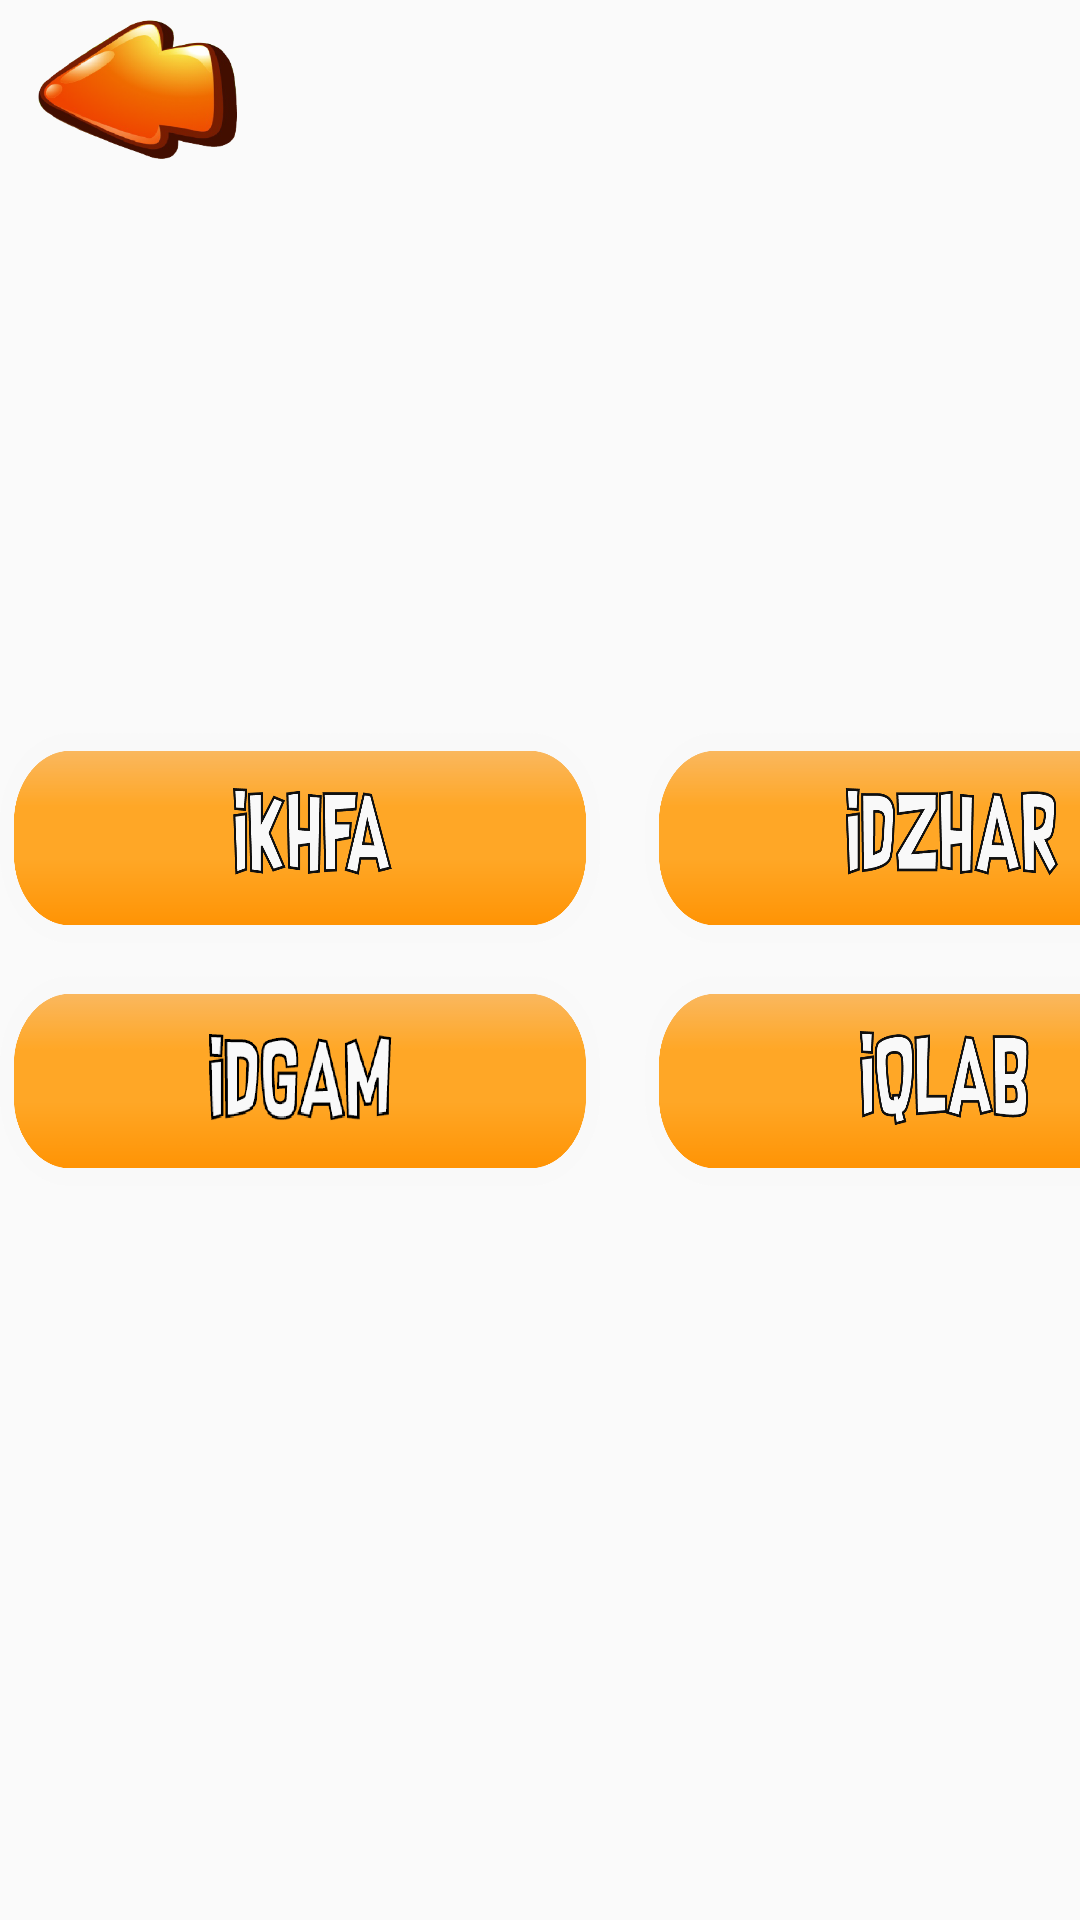

Screen size 1080*1920. Icon name, then its box in pixels as Rect(x1, y1, x2, y2):
back: Rect(38, 20, 237, 159)
